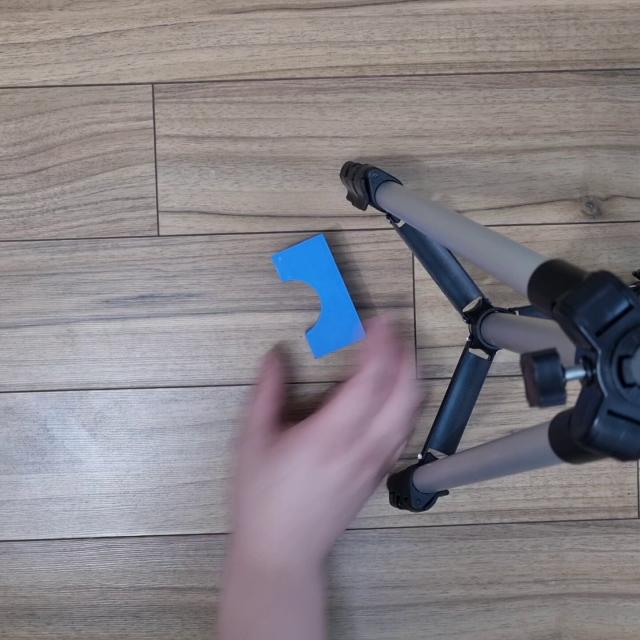block: (267, 227, 373, 367)
hand: (210, 338, 434, 594)
